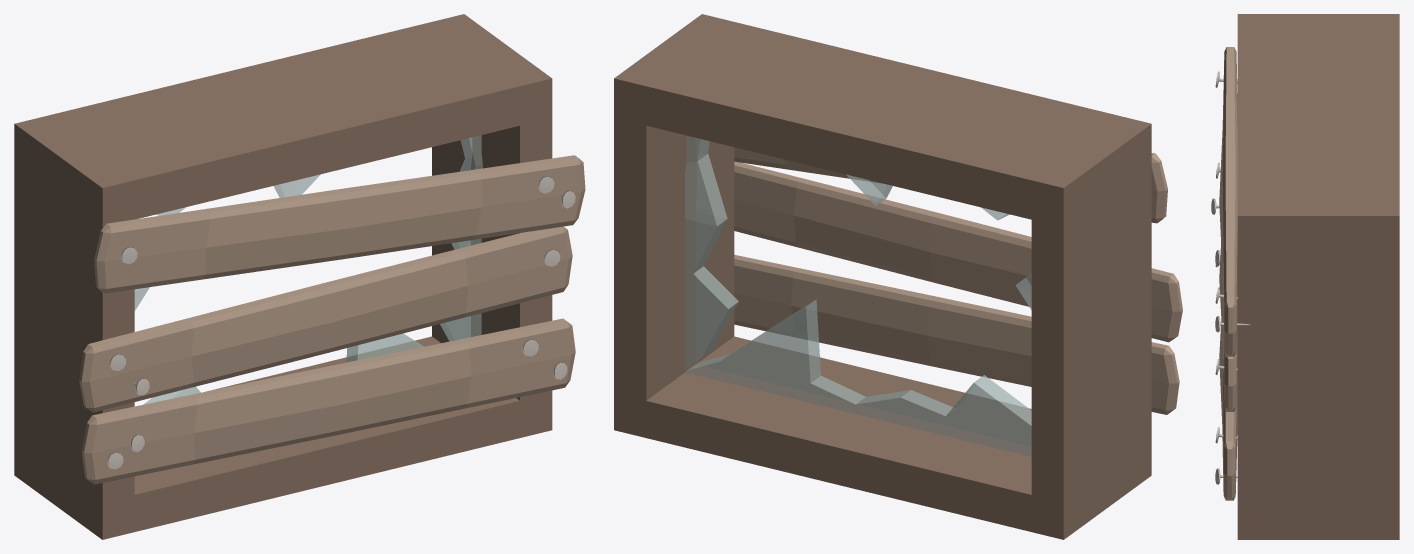
File: windowBoarded.fbx
3 renders of one model, left to right at view 1: azimuth 30°, elevation 25°; view 2: azimuth 150°, elevation 25°; view 3: azimuth 270°, elevation 25°, orthographic. The views are drawn at different scales.
Visible parts, largest first — view 1: windowFrame15, woodPlank3, woodPlank4, woodPlank2, glass3, glass; view 2: windowFrame15, woodPlank3, woodPlank4, glass, glass3, woodPlank2, glass2; view 3: windowFrame15, woodPlank2, woodPlank4, woodPlank3.
Boxes of the visible parts, x1,y1,x2,y2 form: windowFrame15: (14,14,552,539); woodPlank3: (79,226,572,412); woodPlank4: (81,318,575,484); woodPlank2: (94,155,585,293); glass3: (440,135,482,341); glass: (143,333,423,404); windowFrame15: (614,14,1151,539); woodPlank3: (734,161,1182,342); woodPlank4: (734,254,1179,414); glass: (685,299,1031,456); glass3: (685,136,738,369); woodPlank2: (734,147,1167,223); glass2: (846,174,1009,220); windowFrame15: (1237,14,1399,539); woodPlank2: (1219,47,1237,356); woodPlank4: (1219,322,1237,500); woodPlank3: (1219,244,1237,411).
Size of the model in its own units: 2.41 by 1.61 by 0.8471.
